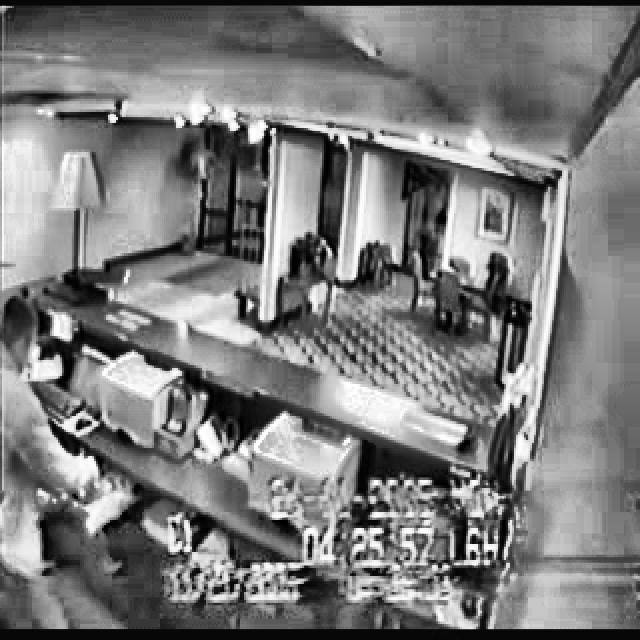Weapon: (6, 202, 145, 628)
